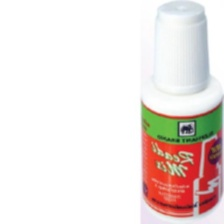correction_fluid: (138, 0, 223, 224)
